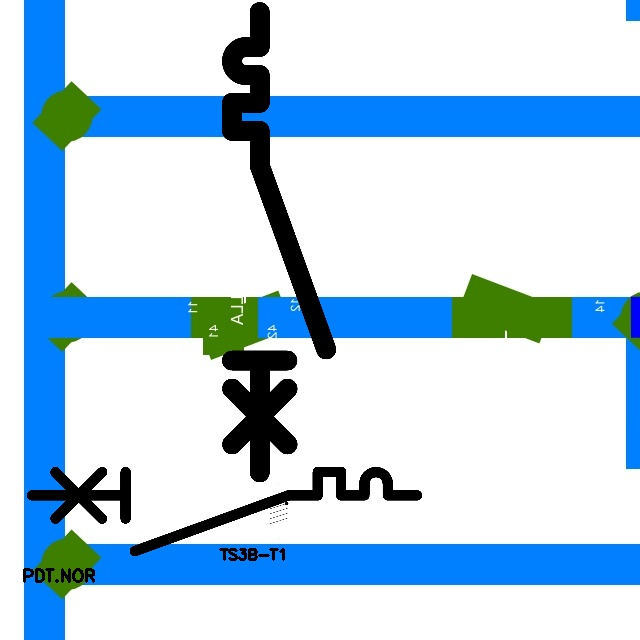interruptor_termomagnetico: (220, 0, 338, 484), (22, 462, 427, 561)
